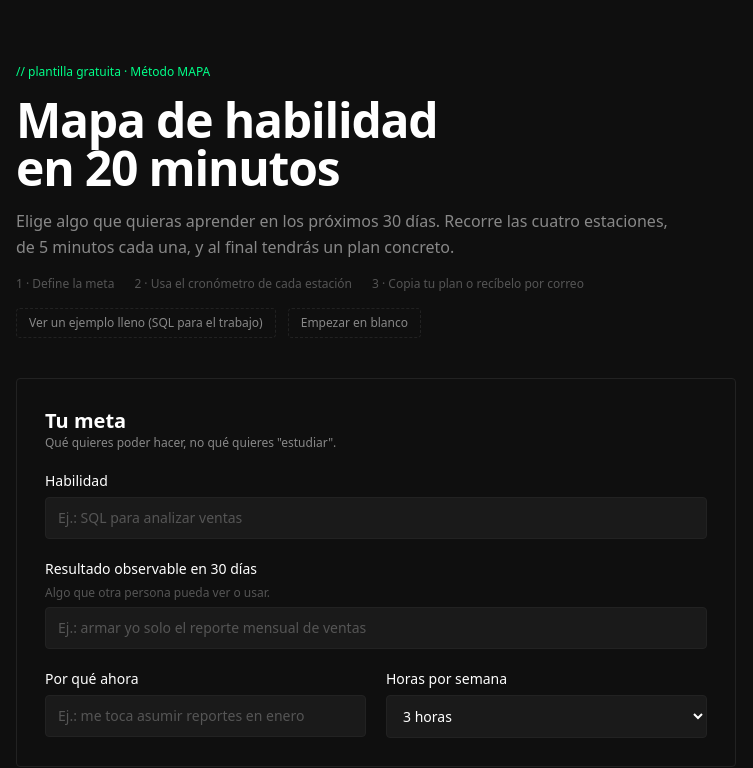
MapaTool › updates the plan as the person types
This screenshot has width=753, height=768.
Type "Excel" into the field labelled "Habilidad".
click(376, 518); type("Excel")  # box [45, 497, 707, 539]
(page scrolled)
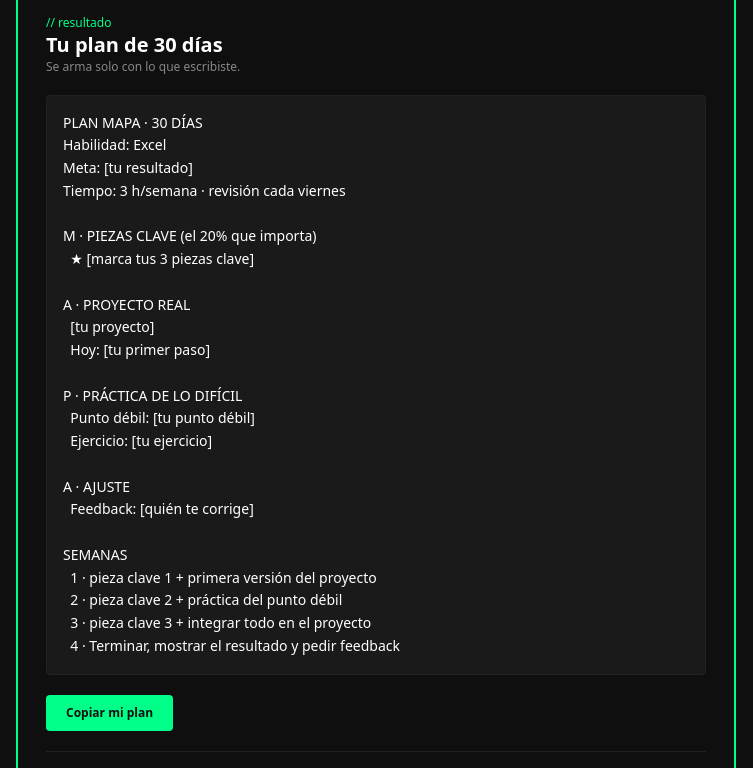
Expected: the text with test id "plan" shows "Habilidad: Excel", [63, 112, 400, 655]
